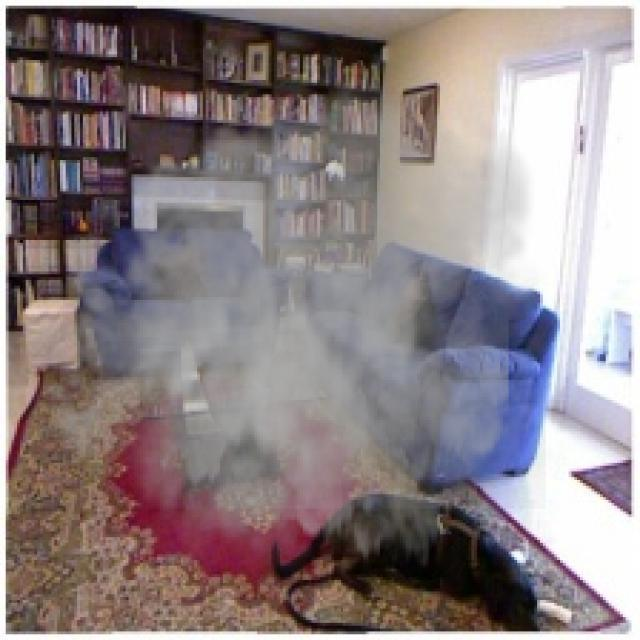Smoke: (28, 60, 546, 603)
